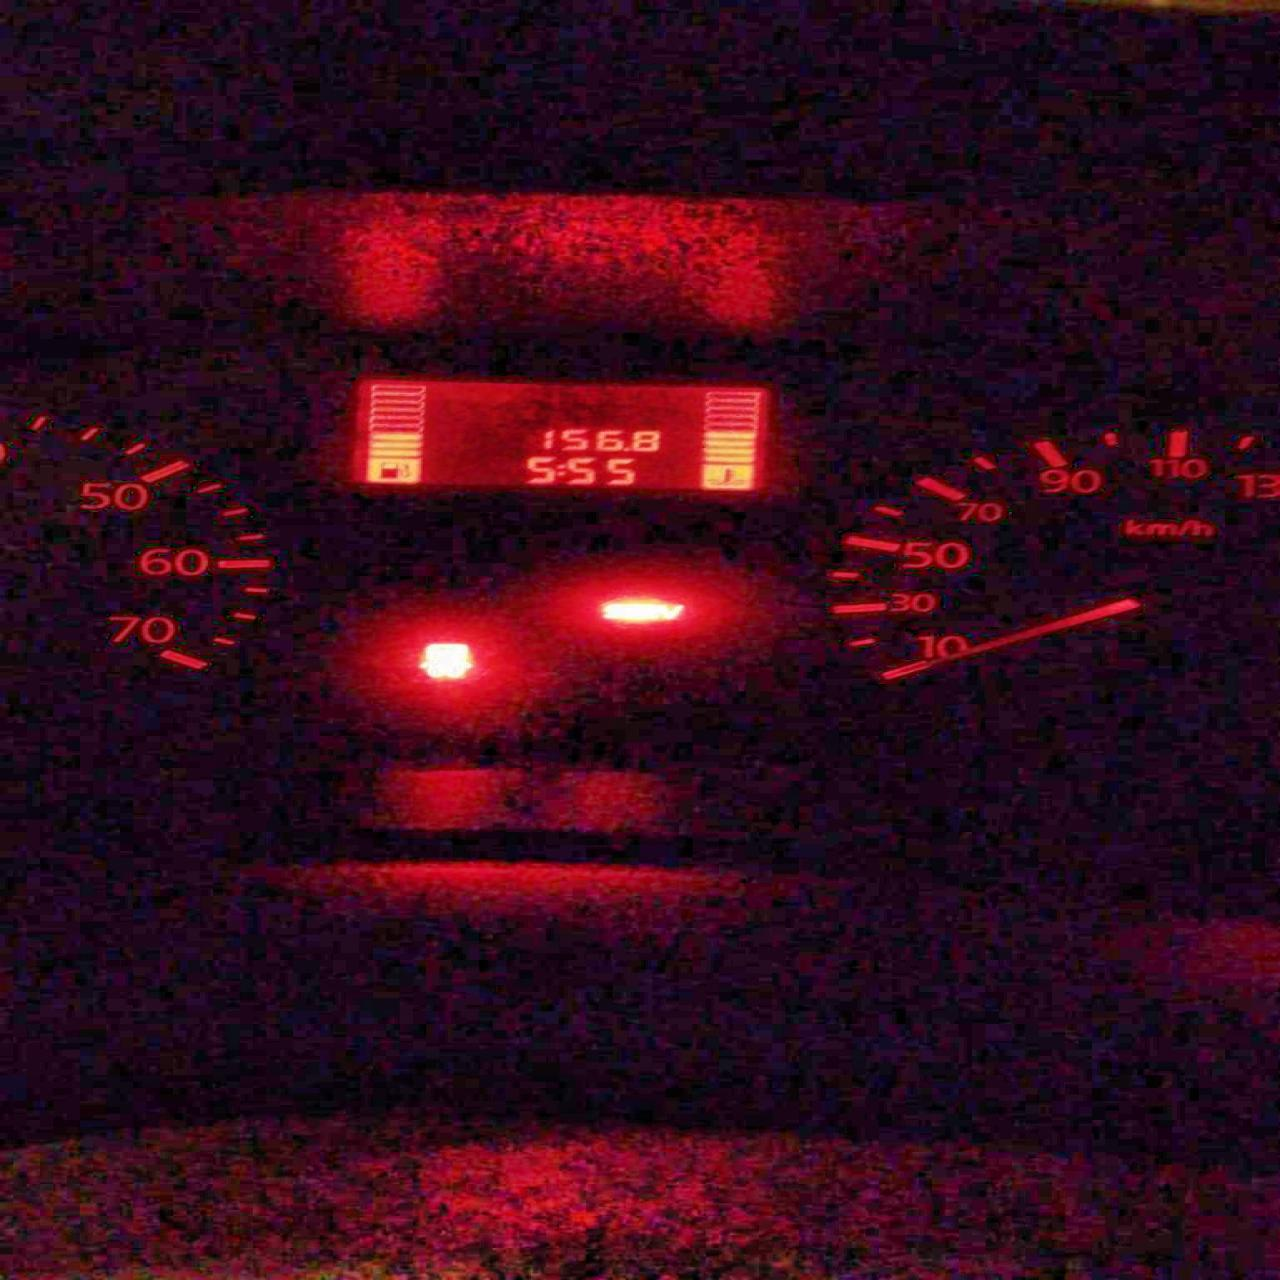-: (622, 447, 629, 451)
1: (542, 429, 553, 449)
5: (564, 456, 595, 485), (523, 455, 554, 483), (605, 457, 635, 485), (557, 428, 587, 450)
6: (592, 429, 622, 451)
8: (629, 429, 661, 451)
X: (554, 463, 566, 476)
odometer: (340, 375, 779, 497)
